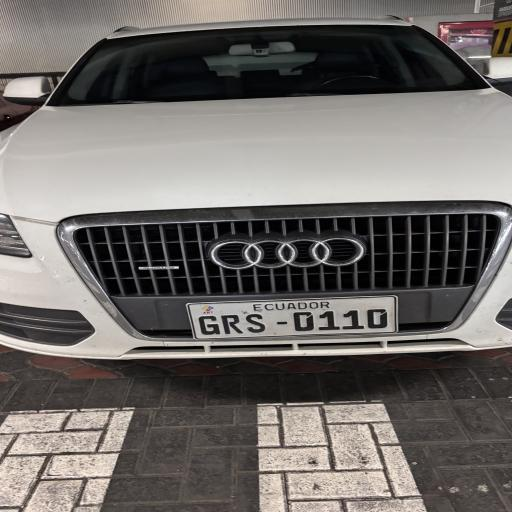license_plate: (187, 296, 396, 339)
